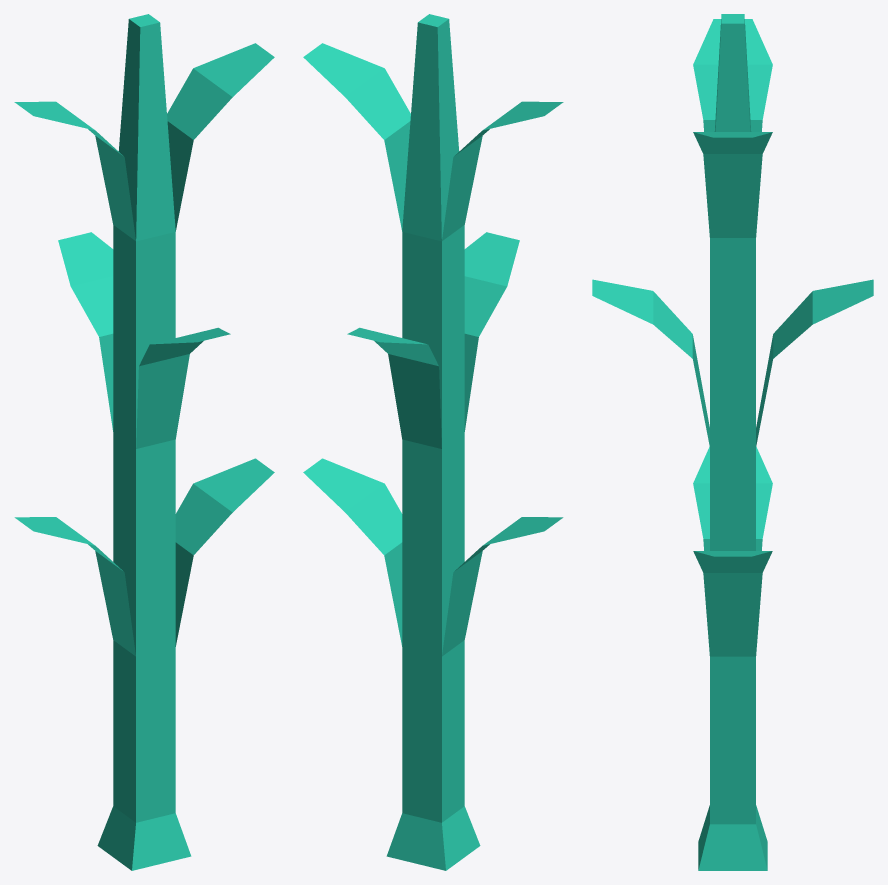
Rendered from crops_cornStageB.dae.
3 views of the same model, side by side, from view 1: azimuth 30°, elevation 25°; view 2: azimuth 150°, elevation 25°; view 3: azimuth 270°, elevation 25° (orthographic).
Visible parts, largest first — view 1: crops_cornStageB; view 2: crops_cornStageB; view 3: crops_cornStageB.
Part boxes in pixels (left/top/right/bottom): crops_cornStageB: left=14, top=14, right=274, bottom=870; crops_cornStageB: left=303, top=14, right=563, bottom=870; crops_cornStageB: left=592, top=14, right=873, bottom=870.
Size of the model in its own units: 0.3042 by 1 by 0.3042.
